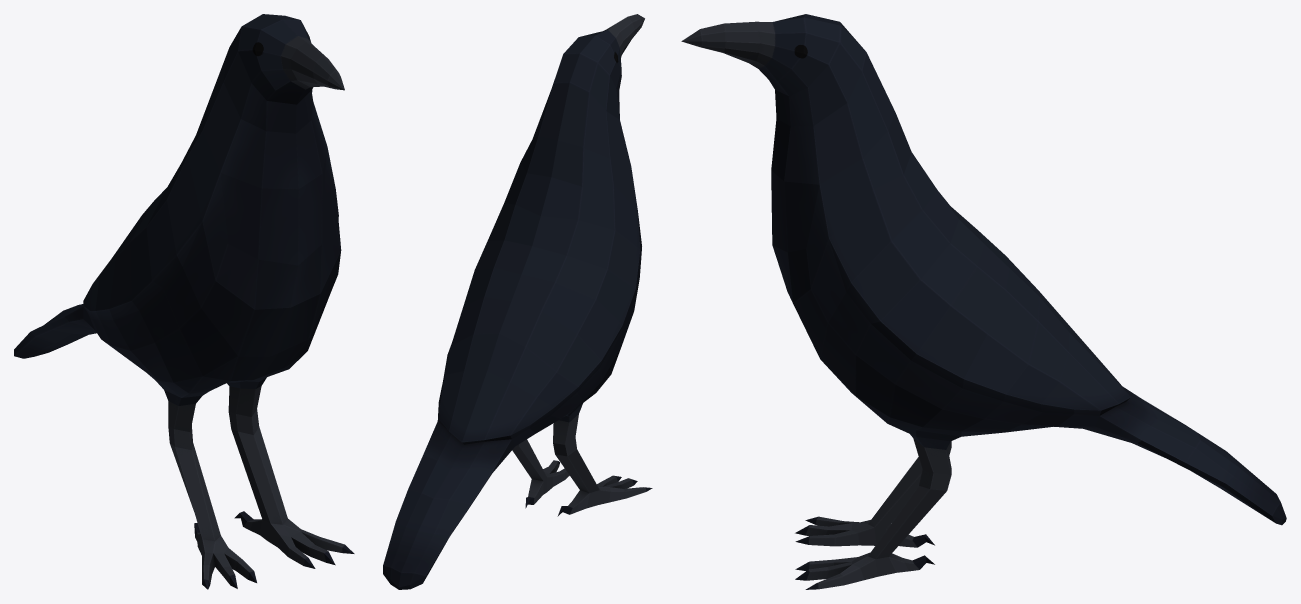
File: 7c2cc3e6-3882-49ab-bba6-33ddfc3594d9.glb
The picture shows the model from 3 angles, left to right: view 1: azimuth 30°, elevation 25°; view 2: azimuth 150°, elevation 25°; view 3: azimuth 270°, elevation 25°; orthographic projection. The views are drawn at different scales.
Visible parts, largest first — view 1: Raven_mesh; view 2: Raven_mesh; view 3: Raven_mesh.
Boxes of the visible parts, x1,y1,x2,y2 form: Raven_mesh: (14, 14, 354, 589); Raven_mesh: (383, 14, 652, 589); Raven_mesh: (681, 14, 1286, 589).
Bounding box in the file's own units: 4.54 × 13.02 × 13.24.
Materials: 1 (1 with a texture image).
